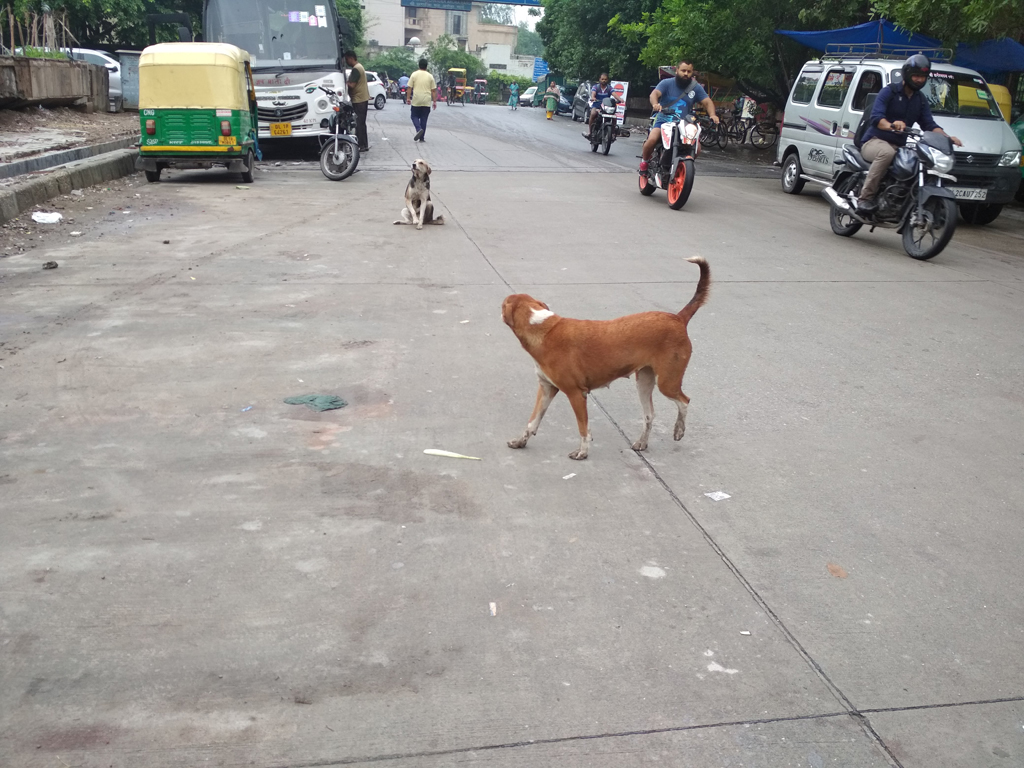dog: (499, 254, 711, 461), (391, 160, 448, 229)
